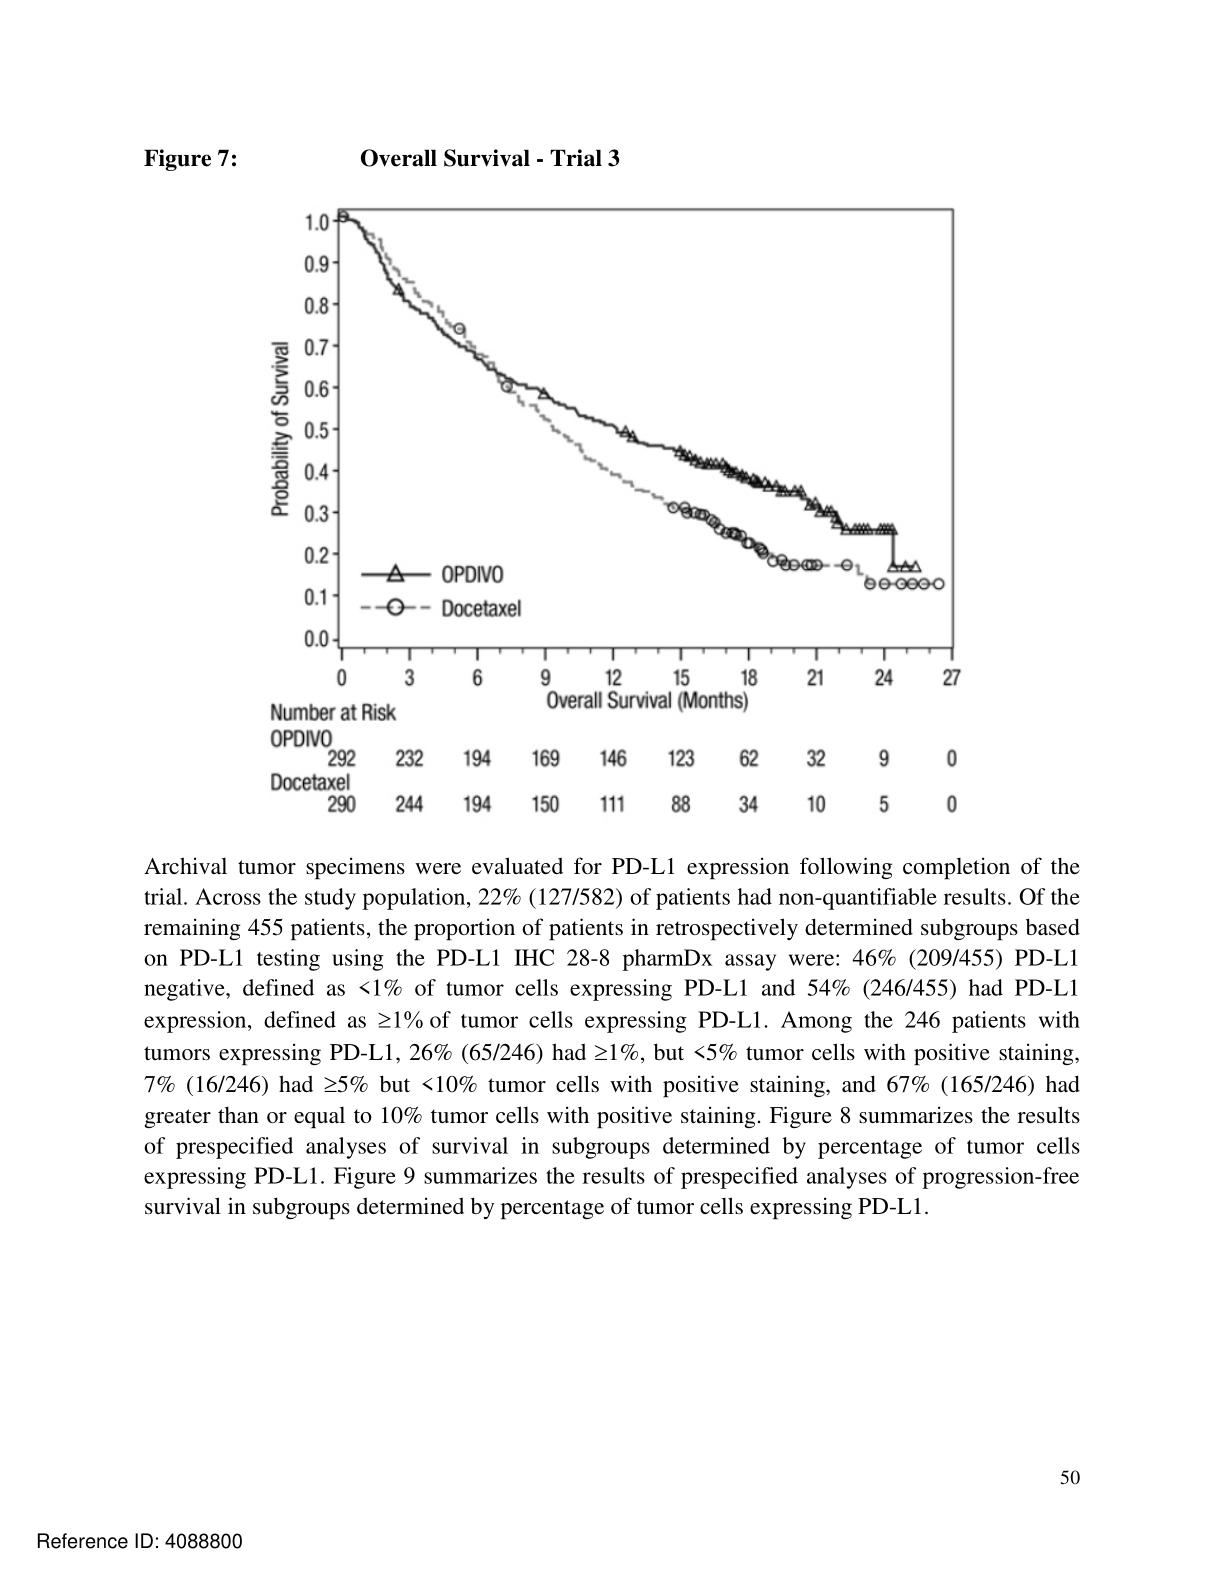nolines: (264, 725, 960, 814)
